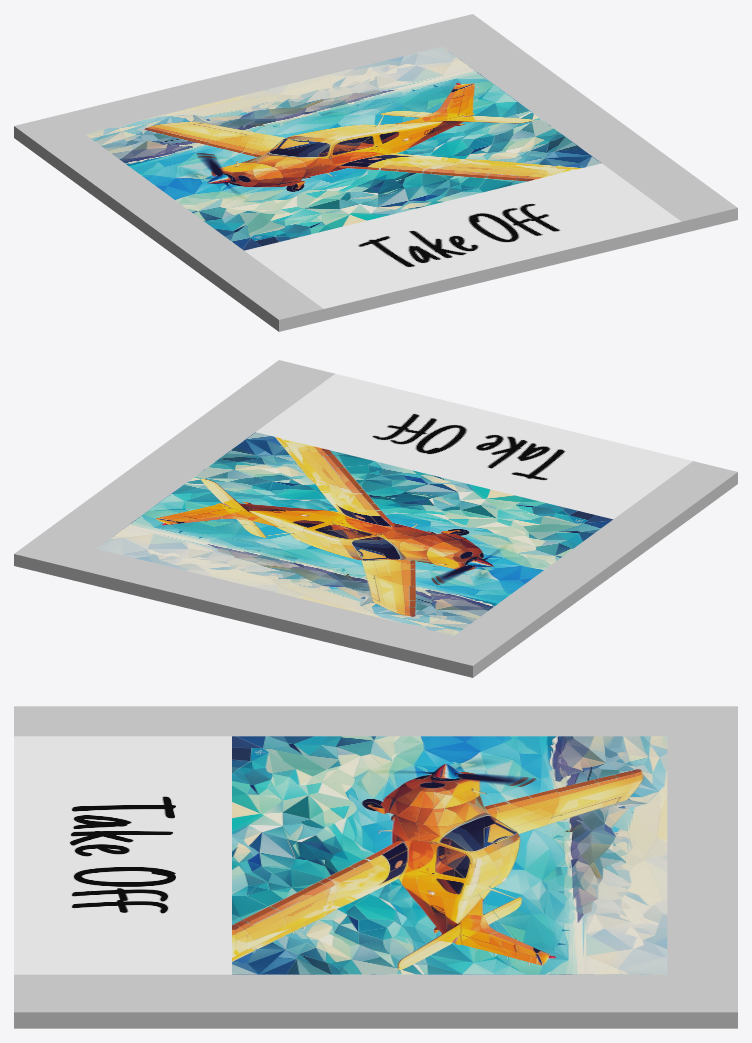
Rendered from Polaroid_StartGame.fbx.
The picture shows the model from 3 angles, top to bottom: view 1: azimuth 30°, elevation 25°; view 2: azimuth 150°, elevation 25°; view 3: azimuth 270°, elevation 25°; orthographic projection. The views are drawn at different scales.
Visible parts, largest first — view 1: Plane.001; view 2: Plane.001; view 3: Plane.001.
Part boxes in pixels (box(x1,y1,x2,y2)): Plane.001: box(14, 14, 737, 331); Plane.001: box(14, 360, 737, 677); Plane.001: box(14, 706, 737, 1028).
Bounding box in the file's own units: 400 × 10 × 400.
